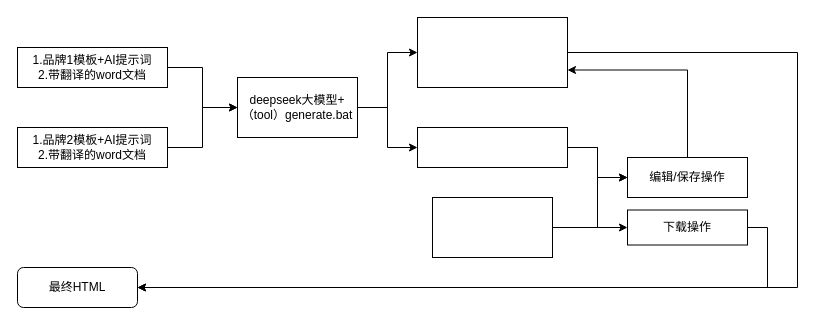
This 823x325 diagram has some shape labels left out. The centre of each missing label's shape, as x and y in pixels:
"temp文件夹： html css images" goes at (x=492, y=52).
"可编辑的html" goes at (x=492, y=147).
"（tool）edit.bat" goes at (x=492, y=227).
